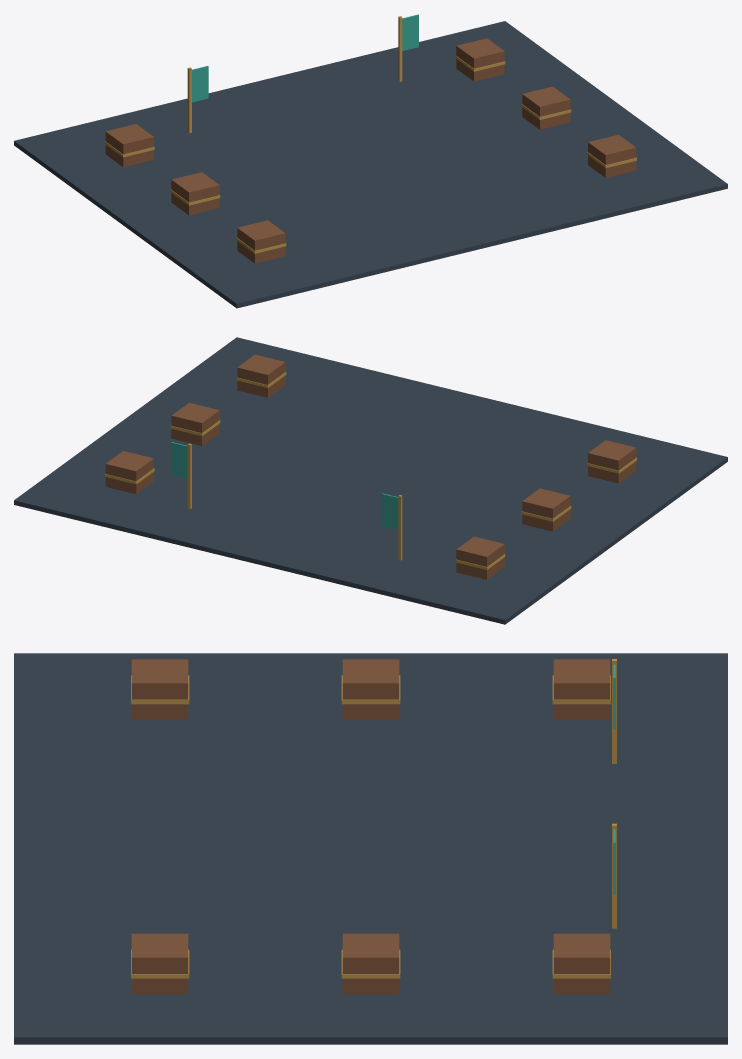
File: supply_court.glb
3 views of the same model, one above another, from view 1: azimuth 30°, elevation 25°; view 2: azimuth 150°, elevation 25°; view 3: azimuth 270°, elevation 25° (orthographic). The views are drawn at different scales.
Visible parts, largest first — view 1: supply_court; view 2: supply_court; view 3: supply_court.
Part boxes in pixels (<box>): supply_court: <box>14,14,727,308</box>; supply_court: <box>14,337,727,624</box>; supply_court: <box>14,653,727,1044</box>.
Size of the model in its own units: 112 by 15 by 88.
